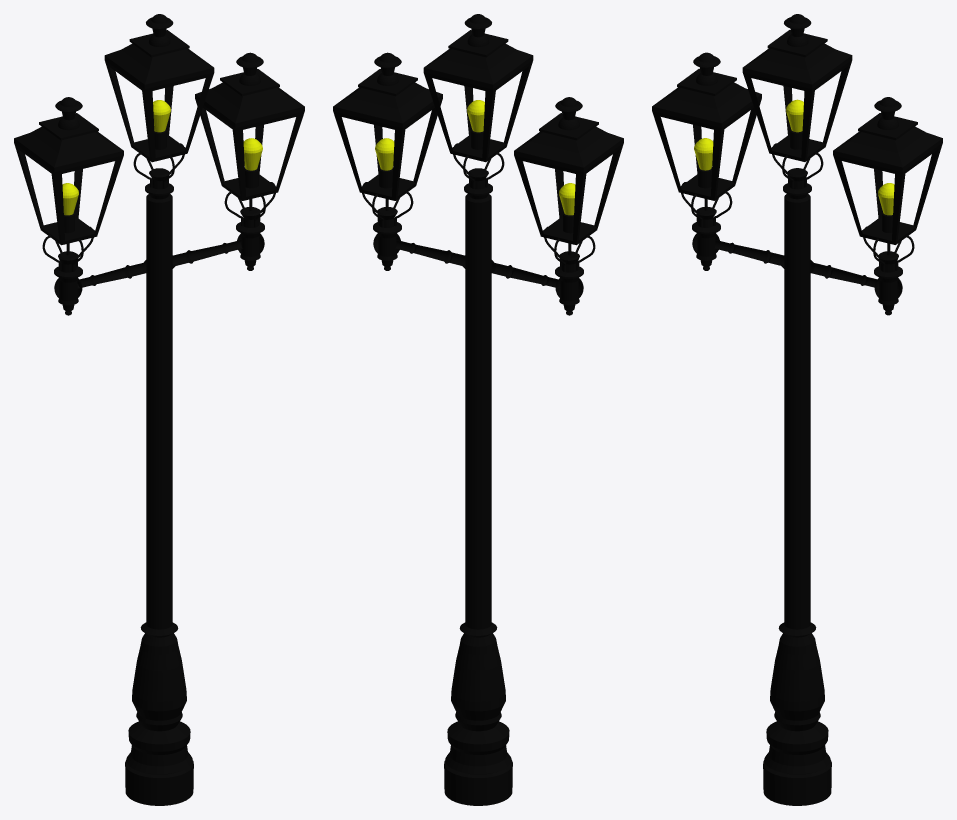
File: lampPost.glb
3 renders of one model, left to right at view 1: azimuth 30°, elevation 25°; view 2: azimuth 150°, elevation 25°; view 3: azimuth 330°, elevation 25°, orthographic.
Visible parts, largest first — view 1: Cube; view 2: Cube; view 3: Cube.
Part boxes in pixels (left/top/right/bottom): Cube: left=14, top=14, right=304, bottom=805; Cube: left=333, top=14, right=623, bottom=805; Cube: left=652, top=14, right=942, bottom=805.
Bounding box in the file's own units: 0.2651 × 0.7849 × 0.0737.
